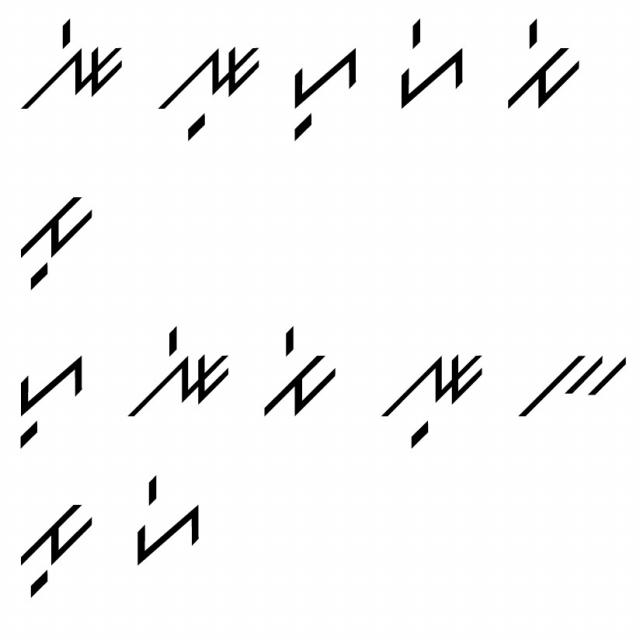he: (127, 462, 210, 571), (392, 10, 472, 116)
hu: (287, 39, 368, 144), (11, 349, 90, 448)
mbe: (495, 11, 587, 122), (254, 320, 344, 423)
mbu: (13, 182, 104, 295), (16, 496, 98, 602)
nde: (124, 317, 236, 424), (18, 15, 126, 118)
ndu: (376, 332, 492, 454), (153, 36, 268, 143)
